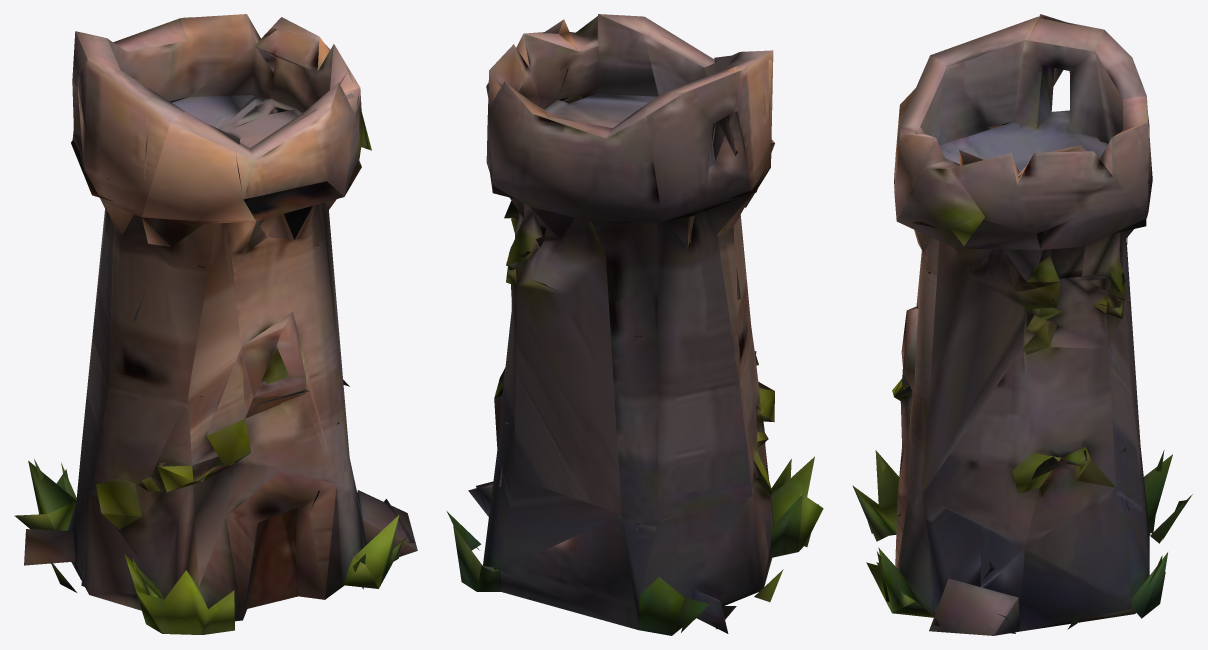
The model's file is lg-ruined-tower.glb.
The picture shows the model from 3 angles, left to right: view 1: azimuth 30°, elevation 25°; view 2: azimuth 150°, elevation 25°; view 3: azimuth 270°, elevation 25°; orthographic projection. The views are drawn at different scales.
Visible parts, largest first — view 1: geometry_0; view 2: geometry_0; view 3: geometry_0.
Boxes of the visible parts, left/top/right/bottom form: geometry_0: left=14, top=14, right=417, bottom=634; geometry_0: left=446, top=14, right=823, bottom=635; geometry_0: left=852, top=14, right=1192, bottom=635.
Bounding box in the file's own units: 0.6623 × 1 × 0.6133.
1 material, 1 textured.
